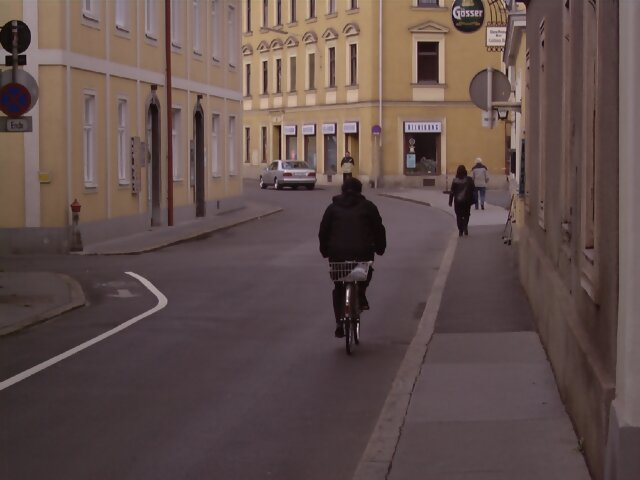person: (314, 170, 395, 358)
